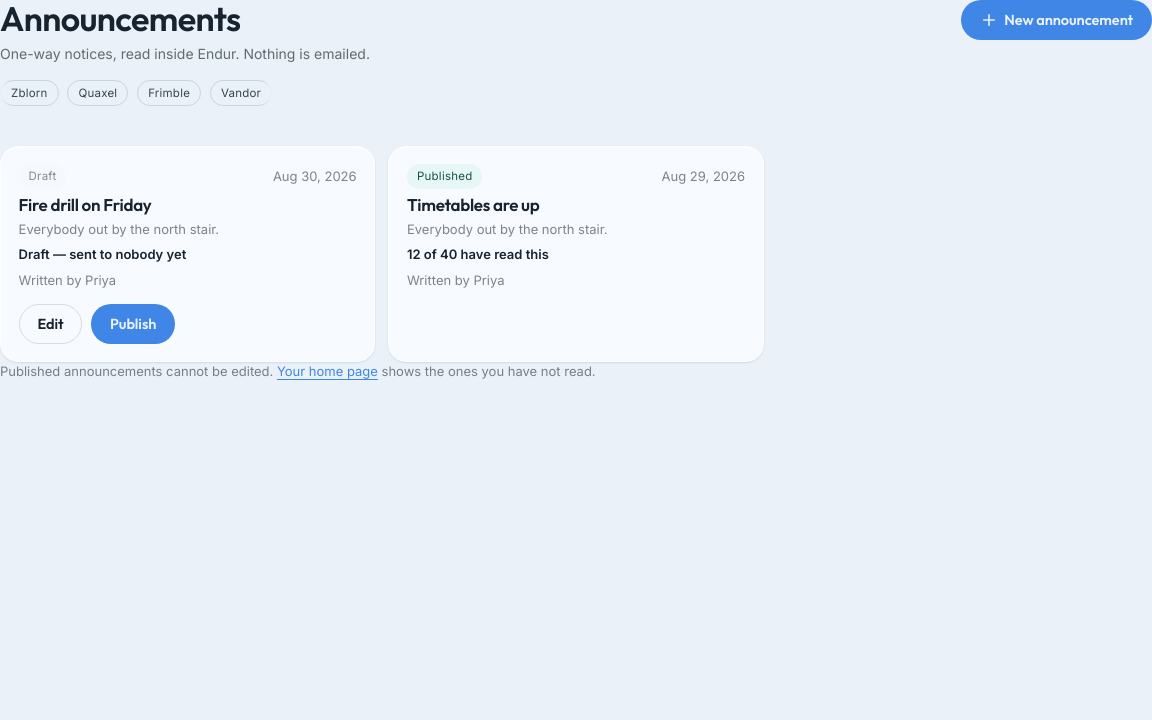
/app/announcements › names the consequence before publishing, and does not publish on open
Click the button "Publish" at (133, 324), box [91, 304, 175, 344]
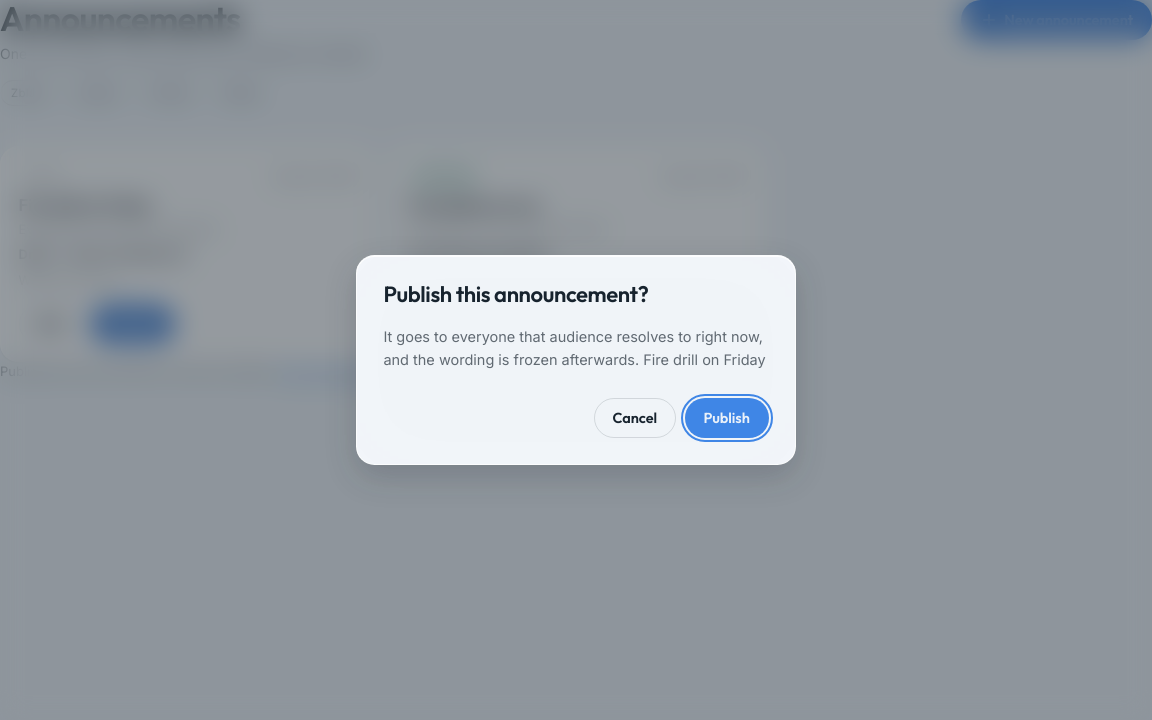
expect the dialog shows "frozen": met, box [383, 328, 766, 368]
